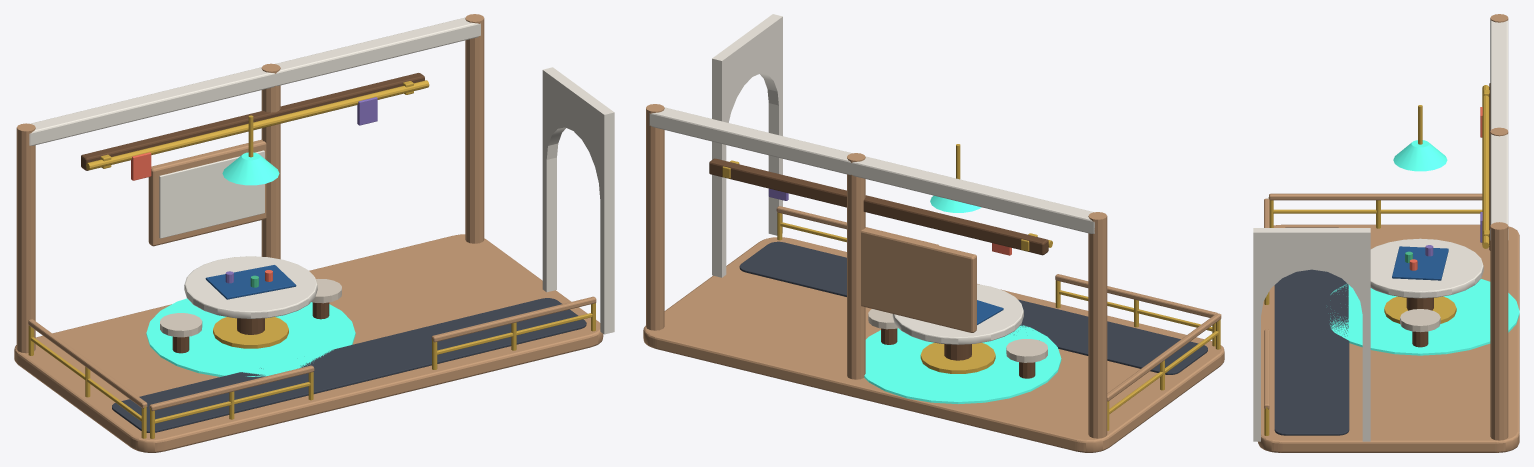
Rendered from WallHabitat_MidPlanningNook.fbx.
The picture shows the model from 3 angles, left to right: view 1: azimuth 30°, elevation 25°; view 2: azimuth 150°, elevation 25°; view 3: azimuth 270°, elevation 25°; orthographic projection. The views are drawn at different scales.
Parts seen in each view (by area): view 1: WallHabitat_MidPlanningNook_Structure, WallHabitat_MidPlanningNook_Accents; view 2: WallHabitat_MidPlanningNook_Structure, WallHabitat_MidPlanningNook_Accents; view 3: WallHabitat_MidPlanningNook_Structure, WallHabitat_MidPlanningNook_Accents.
Part boxes in pixels (x1=…): WallHabitat_MidPlanningNook_Structure: x1=14, y1=14, x2=614, y2=452; WallHabitat_MidPlanningNook_Accents: x1=100, y1=81, x2=413, y2=287; WallHabitat_MidPlanningNook_Structure: x1=643, y1=14, x2=1224, y2=452; WallHabitat_MidPlanningNook_Accents: x1=722, y1=160, x2=1037, y2=255; WallHabitat_MidPlanningNook_Structure: x1=1253, y1=14, x2=1519, y2=452; WallHabitat_MidPlanningNook_Accents: x1=1405, y1=90, x2=1489, y2=270.
Bounding box in the file's own units: 45.6 × 21.8 × 23.6.
